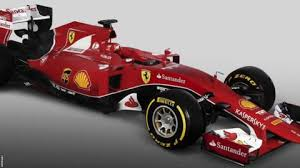FormulaOneCar: (2, 4, 300, 167)
